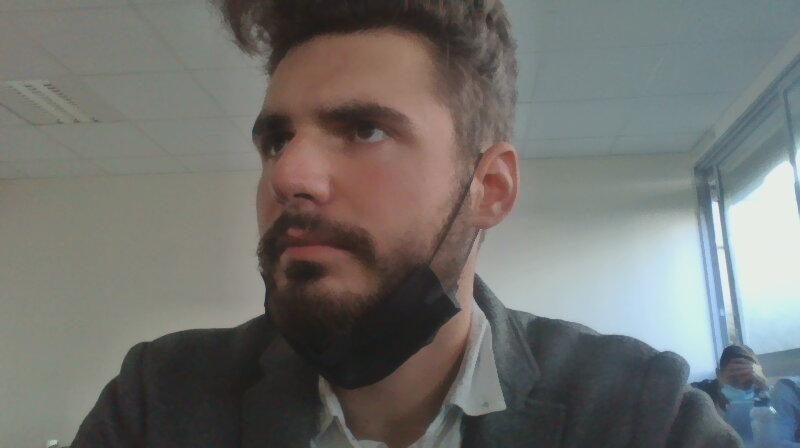with_incorrect_mask: (225, 65, 489, 382)
